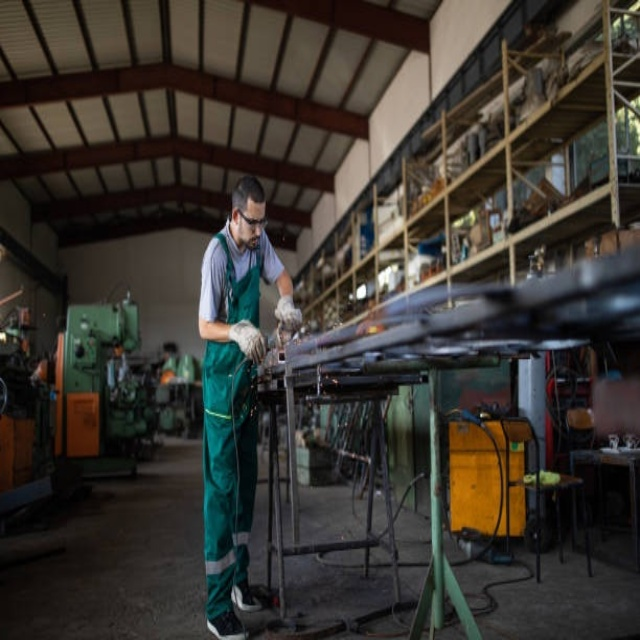Gafas: (236, 208, 268, 228)
Guantes: (230, 320, 266, 364), (276, 295, 303, 333)
Sin_mascara: (244, 232, 264, 256)
